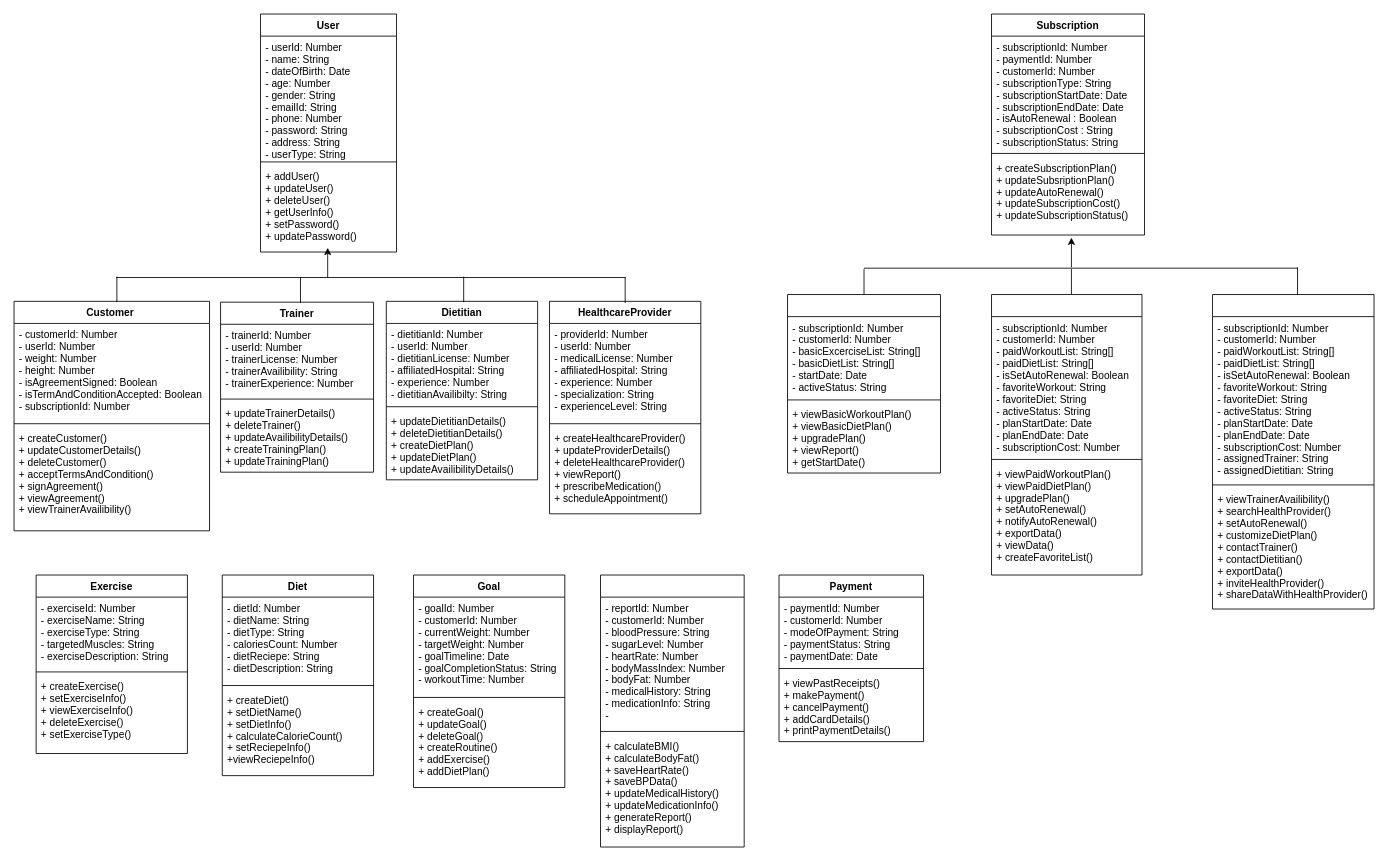
The diagram is 1388 pixels wide and 861 high, and some of its shapes have lost their labels. Each missing label, with the box of its shape:
BasicPlan: (787, 294, 941, 473)
CustomerHealthReport: (600, 574, 744, 847)
GoldPlan: (991, 294, 1142, 575)
PlatinumPlan: (1212, 294, 1374, 609)
